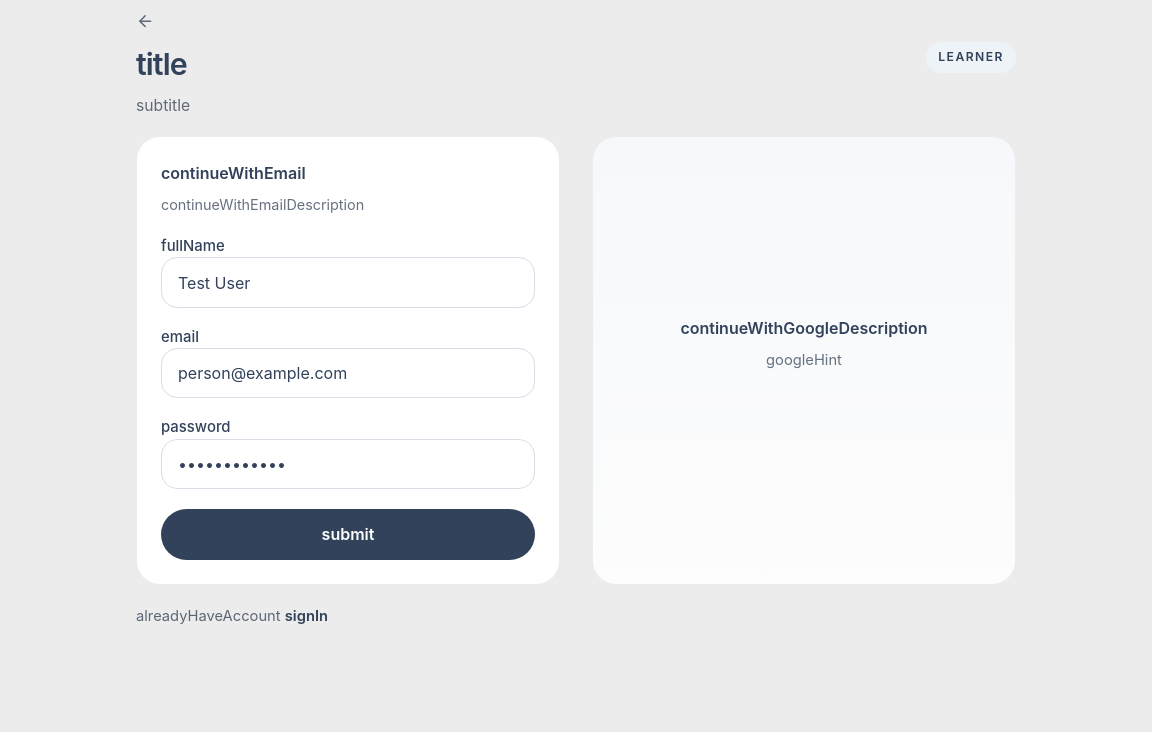
Test: auth form accessibility contracts › announces registration errors and associates them with the submitted credentials
Click the button "submit" at {"x": 348, "y": 534}, box [161, 509, 535, 560]
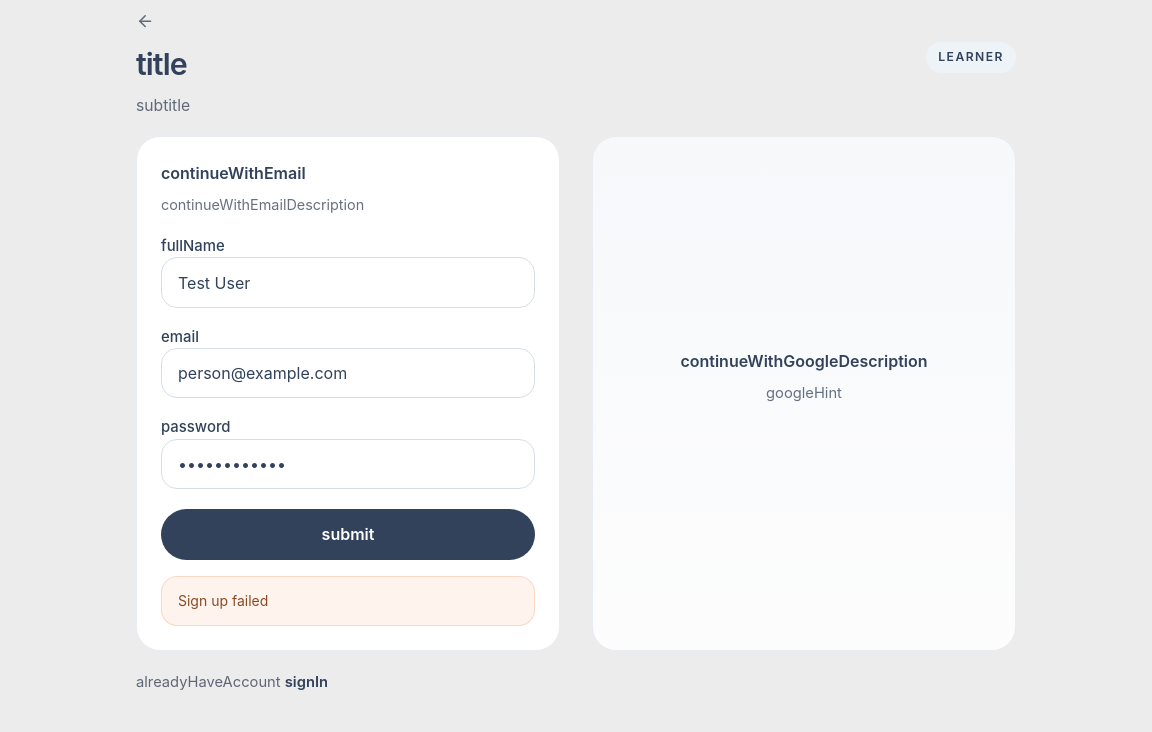
expect the message reads "Sign up failed": met, box [178, 592, 268, 608]
